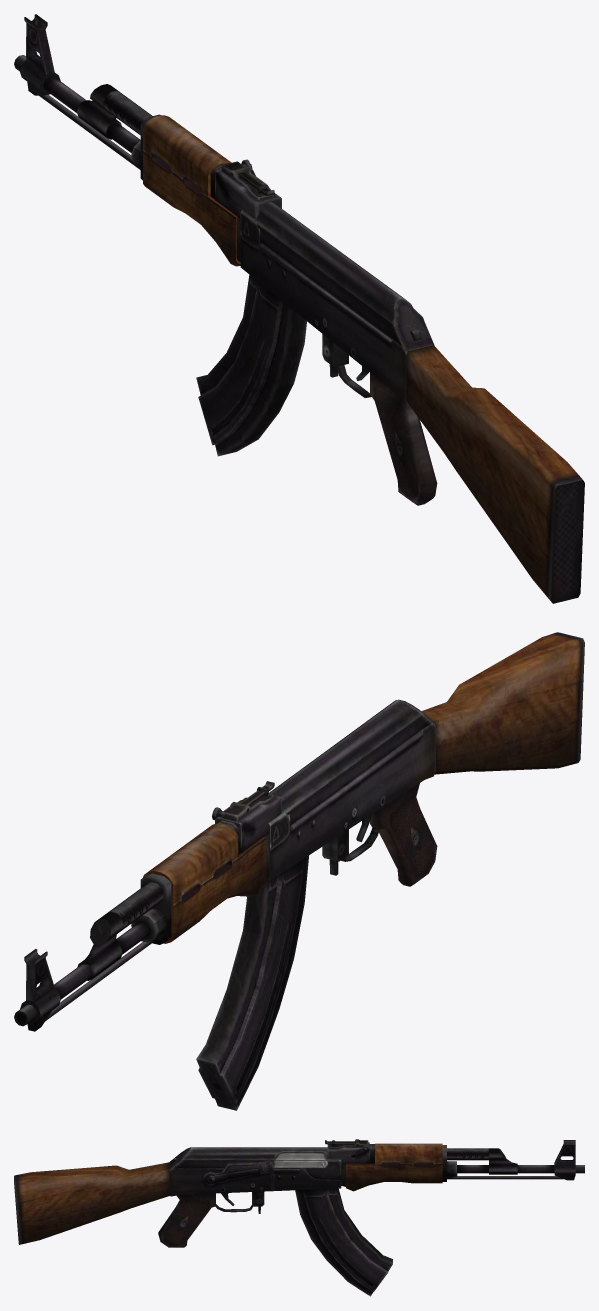
3 views of the same model, one above another, from view 1: azimuth 30°, elevation 25°; view 2: azimuth 150°, elevation 25°; view 3: azimuth 270°, elevation 25° (orthographic). The views are drawn at different scales.
Visible parts, largest first — view 1: LOD01_ak47nogp30_main-1, LOD01_ak47mag-02; view 2: LOD01_ak47nogp30_main-1, LOD01_ak47mag-02; view 3: LOD01_ak47nogp30_main-1, LOD01_ak47mag-02.
Part boxes in pixels (x1=…): LOD01_ak47nogp30_main-1: x1=14, y1=14, x2=584, y2=603; LOD01_ak47mag-02: x1=196, y1=275, x2=306, y2=456; LOD01_ak47nogp30_main-1: x1=14, y1=632, x2=584, y2=1031; LOD01_ak47mag-02: x1=196, y1=855, x2=308, y2=1110; LOD01_ak47nogp30_main-1: x1=14, y1=1139, x2=584, y2=1247; LOD01_ak47mag-02: x1=295, y1=1188, x2=392, y2=1296.
Bounding box in the file's own units: 1.04 × 6.79 × 22.9.
1 material, 1 textured.
